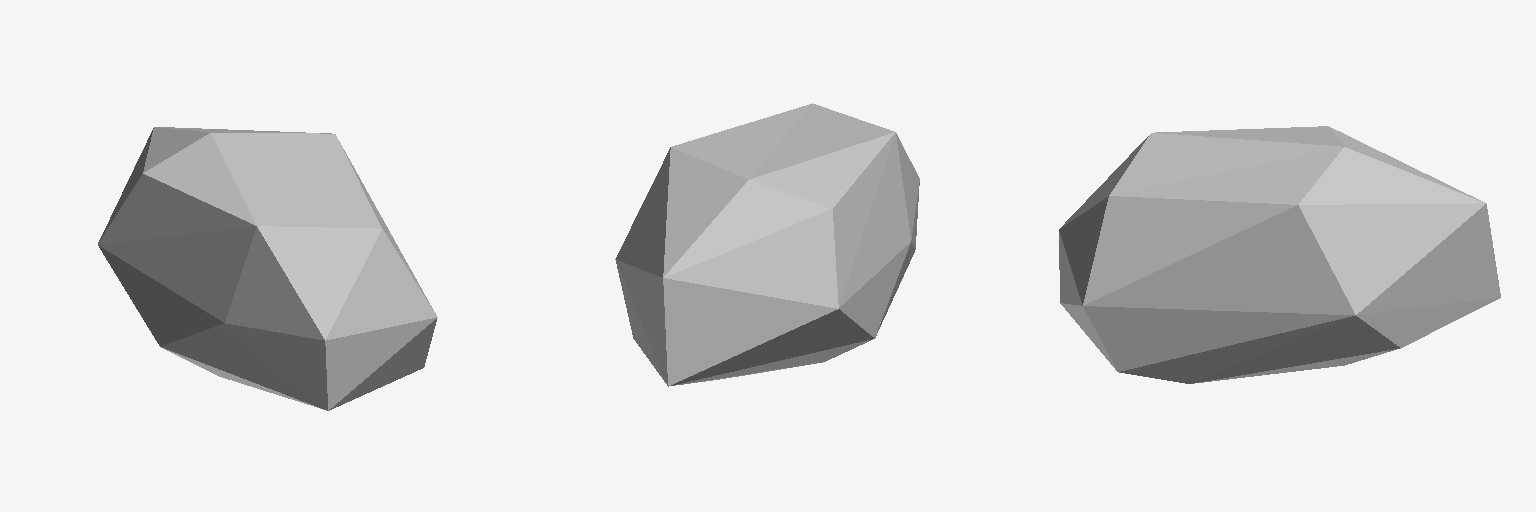
File: rock2.obj
3 renders of one model, left to right at view 1: azimuth 30°, elevation 25°; view 2: azimuth 150°, elevation 25°; view 3: azimuth 270°, elevation 25°, orthographic.
Parts seen in each view (by area): view 1: Icosphere_Icosphere.001; view 2: Icosphere_Icosphere.001; view 3: Icosphere_Icosphere.001.
Part boxes in pixels (left/top/right/bottom): Icosphere_Icosphere.001: left=98, top=127, right=437, bottom=410; Icosphere_Icosphere.001: left=615, top=103, right=919, bottom=386; Icosphere_Icosphere.001: left=1059, top=126, right=1500, bottom=383.
Size of the model in its own units: 2.12 by 1.81 by 3.53.